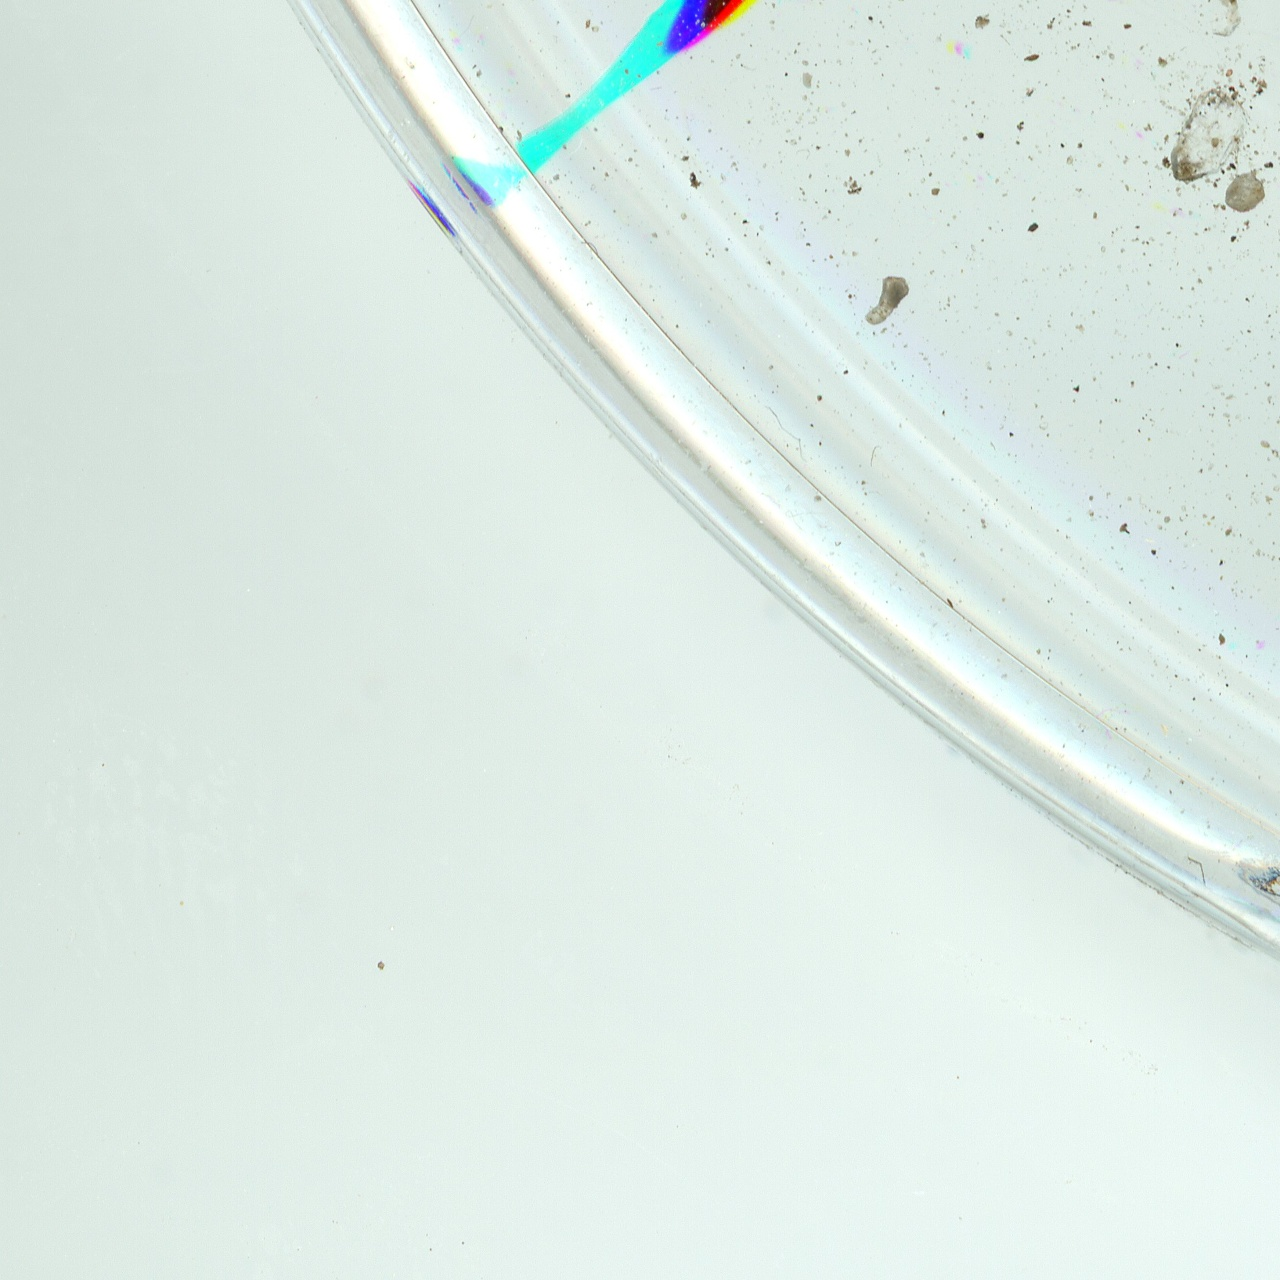arthropod: (620, 0, 850, 95), (663, 0, 808, 61)
